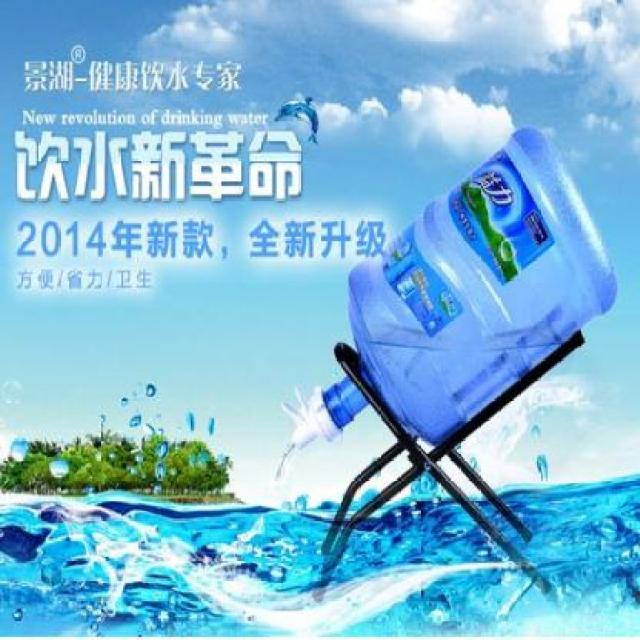coolerbottle: (317, 123, 622, 455)
